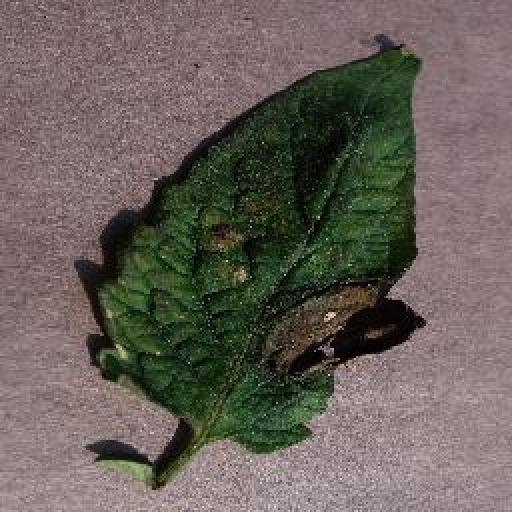disease_tomato: (99, 38, 429, 452)
